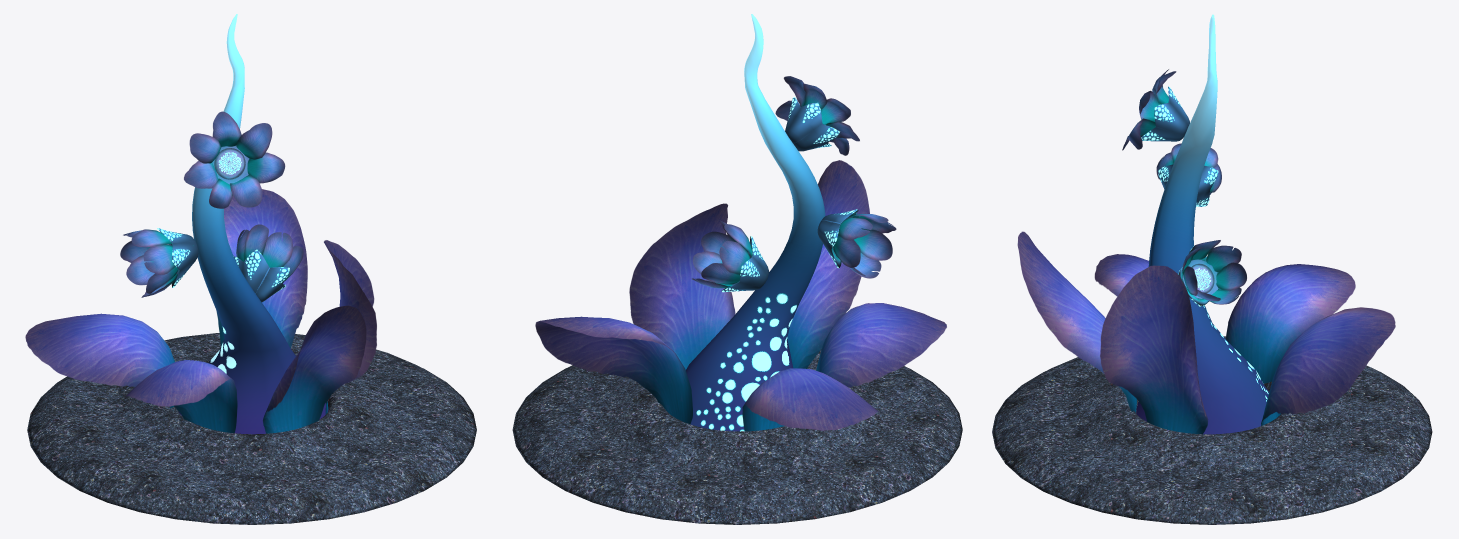
Rendered from alien_plant_cydrakoniss.glb.
3 renders of one model, left to right at view 1: azimuth 30°, elevation 25°; view 2: azimuth 150°, elevation 25°; view 3: azimuth 270°, elevation 25°, orthographic. The views are drawn at different scales.
Parts seen in each view (by area): view 1: Cylinder001, Box001, Plane010, Plane014, Plane011, Plane013, Plane012, Sphere001, Sphere003, Sphere002, Plane017_01 - Default_0, Plane004_01 - Default_0 (+10 smaller); view 2: Cylinder001, Box001, Plane012, Plane013, Plane011, Plane014, Plane010, Sphere002, Sphere001, Sphere003, Plane026_01 - Default_0, Plane008_01 - Default_0 (+4 smaller); view 3: Cylinder001, Plane012, Box001, Plane010, Plane013, Plane014, Sphere002, Plane011, Sphere001, Sphere003, Plane007_01 - Default_0, Plane008_01 - Default_0.
Part boxes in pixels (x1,y1,x2,y2): Cylinder001: (27,333,476,524); Box001: (178,14,328,434); Plane010: (25,313,174,408); Plane014: (263,305,366,433); Plane011: (126,360,237,433); Plane013: (216,189,307,348); Plane012: (324,240,376,414); Sphere001: (233,249,289,302); Sphere003: (157,228,198,287); Sphere002: (212,145,249,184); Plane017_01 - Default_0: (236,123,272,159); Plane004_01 - Default_0: (262,232,293,267); Cylinder001: (512,349,962,524); Box001: (686,14,825,431); Plane012: (629,203,735,369); Plane013: (535,316,692,424); Plane011: (816,303,946,387); Plane014: (787,160,869,368); Plane010: (742,368,878,431); Sphere002: (785,97,839,151); Sphere001: (721,236,768,292); Sphere003: (817,209,860,268); Plane026_01 - Default_0: (854,229,892,260); Plane008_01 - Default_0: (719,241,750,274); Cylinder001: (992,336,1432,524); Plane012: (1100,265,1208,434); Box001: (1136,14,1269,434); Plane010: (1226,264,1355,383); Plane013: (1261,307,1395,425); Plane014: (1017,231,1136,412); Sphere002: (1141,86,1189,141); Plane011: (1094,254,1148,296); Sphere001: (1177,245,1220,306); Sphere003: (1158,164,1218,206); Plane007_01 - Default_0: (1216,262,1246,290); Plane008_01 - Default_0: (1206,245,1241,271).
Size of the model in its own units: 1.99 by 2.11 by 2.01.
5 materials, 5 textured.
